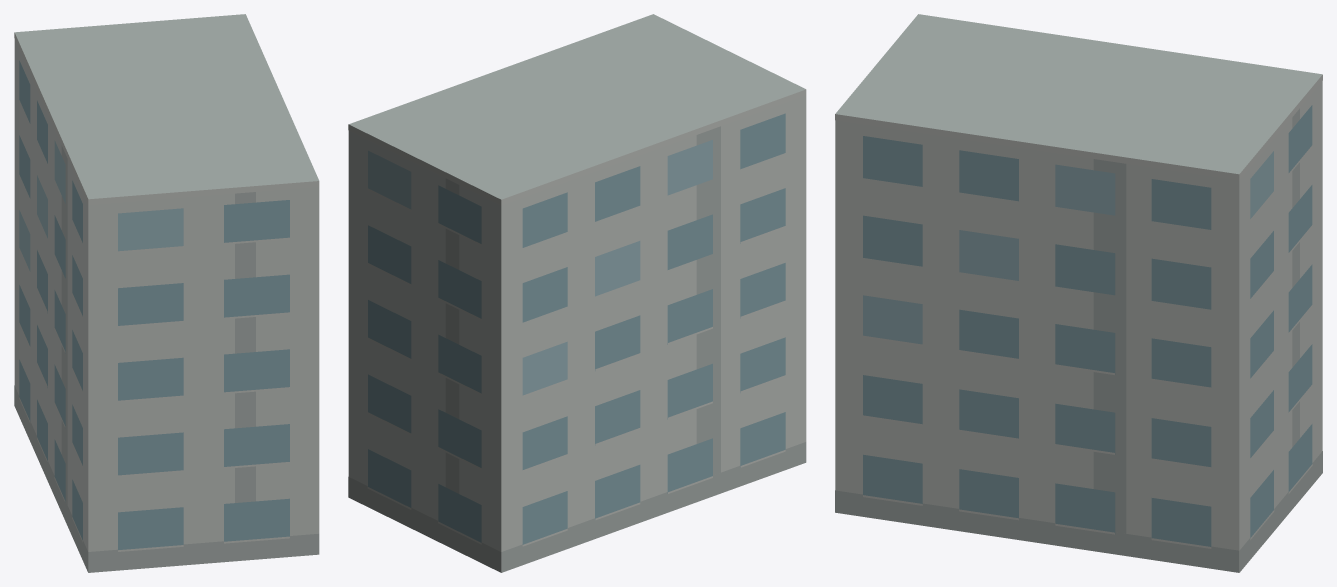
The model's file is residential-65f560fa-4f2b-44f0-a4da-eb9971ae1215.glb.
3 renders of one model, left to right at view 1: azimuth 30°, elevation 25°; view 2: azimuth 150°, elevation 25°; view 3: azimuth 270°, elevation 25°, orthographic. The views are drawn at different scales.
Parts seen in each view (by area): view 1: residential-65f560fa-4f2b-44f0-a4da-eb9971ae1215.tmp; view 2: residential-65f560fa-4f2b-44f0-a4da-eb9971ae1215.tmp; view 3: residential-65f560fa-4f2b-44f0-a4da-eb9971ae1215.tmp.
Boxes of the visible parts, x1,y1,x2,y2 form: residential-65f560fa-4f2b-44f0-a4da-eb9971ae1215.tmp: [14, 14, 319, 572]; residential-65f560fa-4f2b-44f0-a4da-eb9971ae1215.tmp: [348, 14, 806, 572]; residential-65f560fa-4f2b-44f0-a4da-eb9971ae1215.tmp: [835, 14, 1322, 572].
Bounding box in the file's own units: 13.16 × 15.25 × 16.92.
